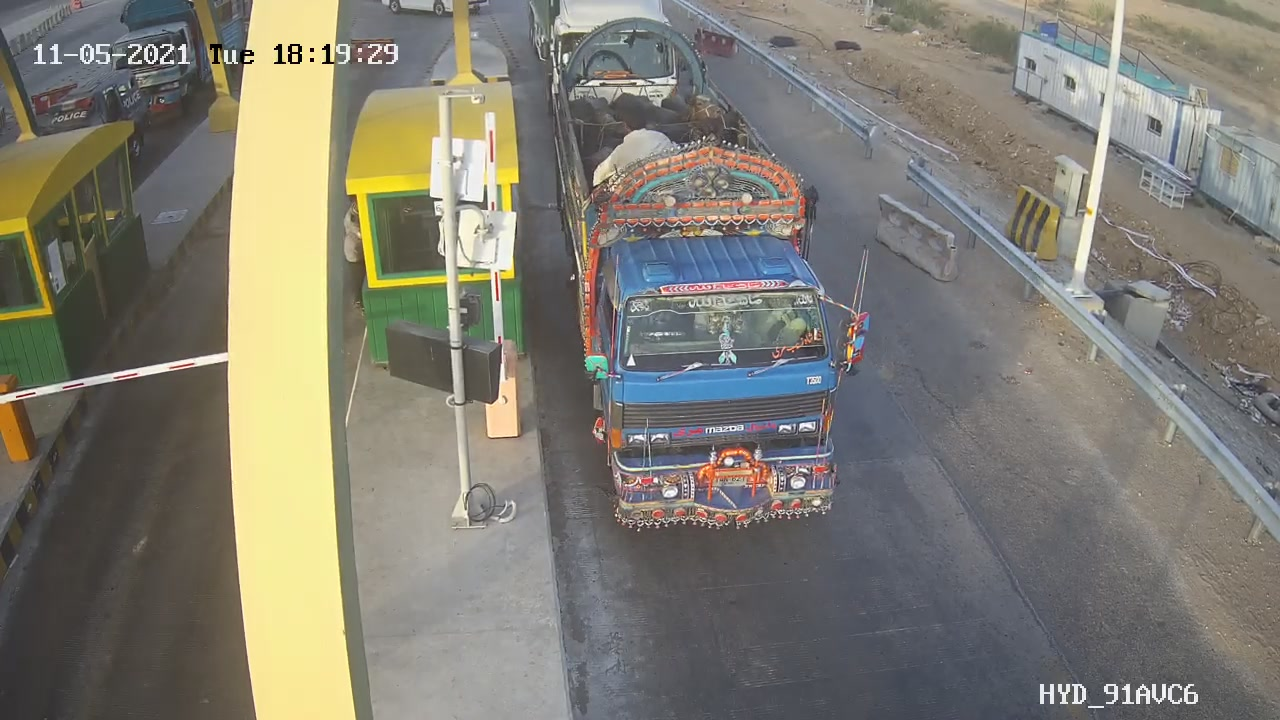F5: (554, 38, 883, 535)
